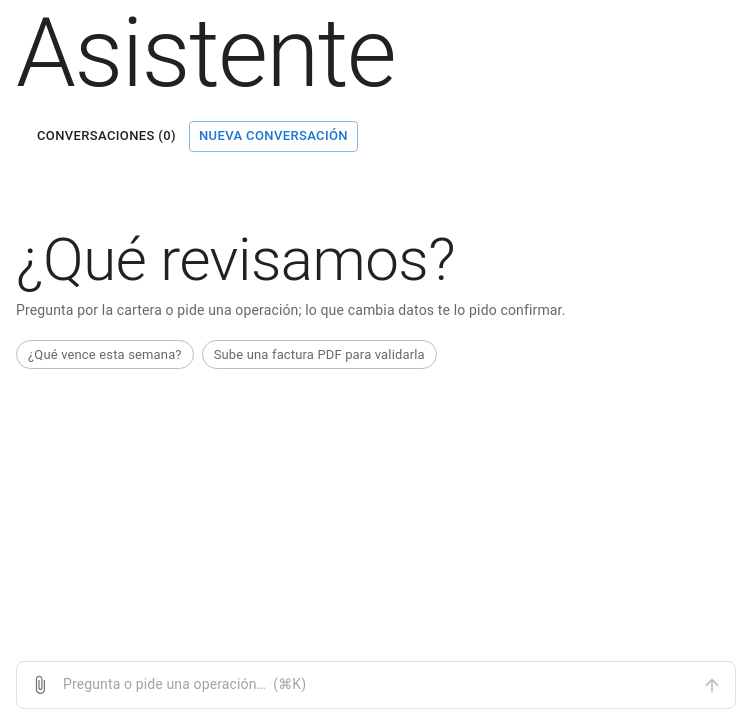
Test: AssistantPage › AC-008-06 ejecuta sola una lectura y envía su resultado en el siguiente turno
Type "¿Qué vence?" into the text box named "Mensaje" at x=376, y=685, box left=63, top=674, right=689, bottom=696
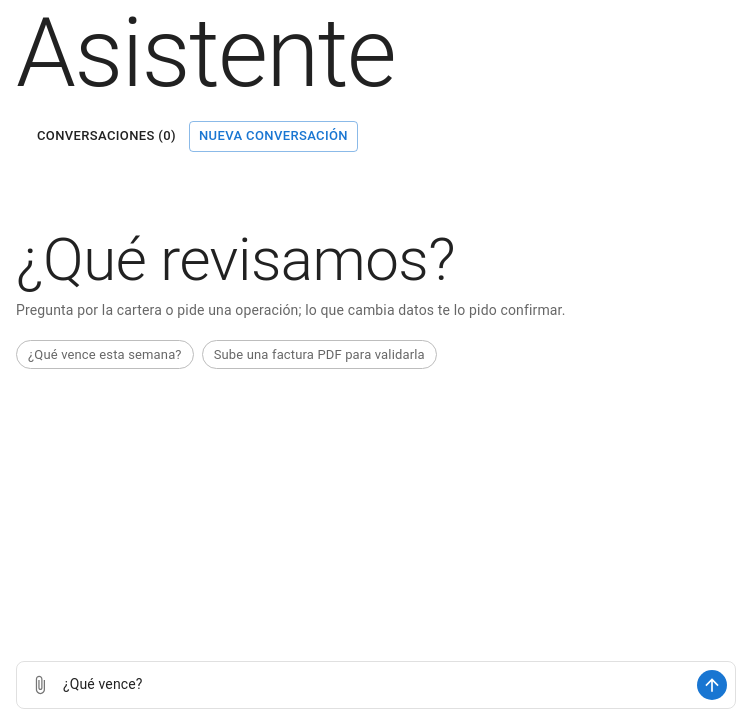
Click the button named "Enviar" at x=712, y=685, box left=697, top=670, right=727, bottom=700
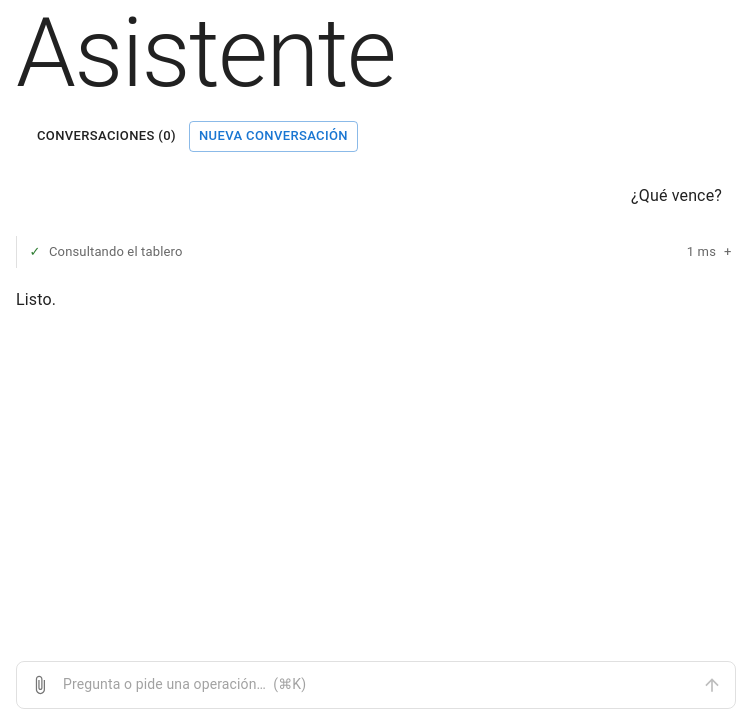
Expected: the text "Listo." is shown, left=16, top=290, right=56, bottom=309
